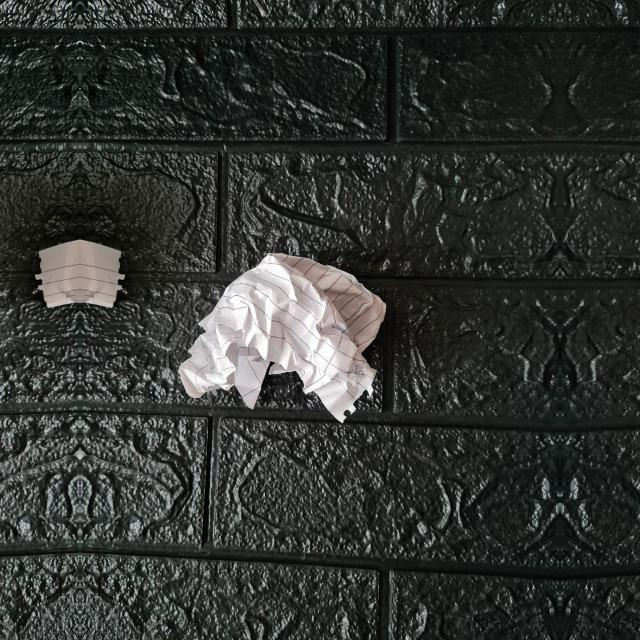paper: (184, 250, 384, 410)
